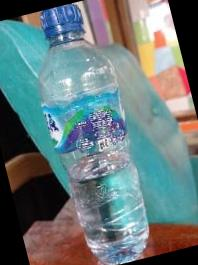Plastik: (39, 3, 149, 265)
